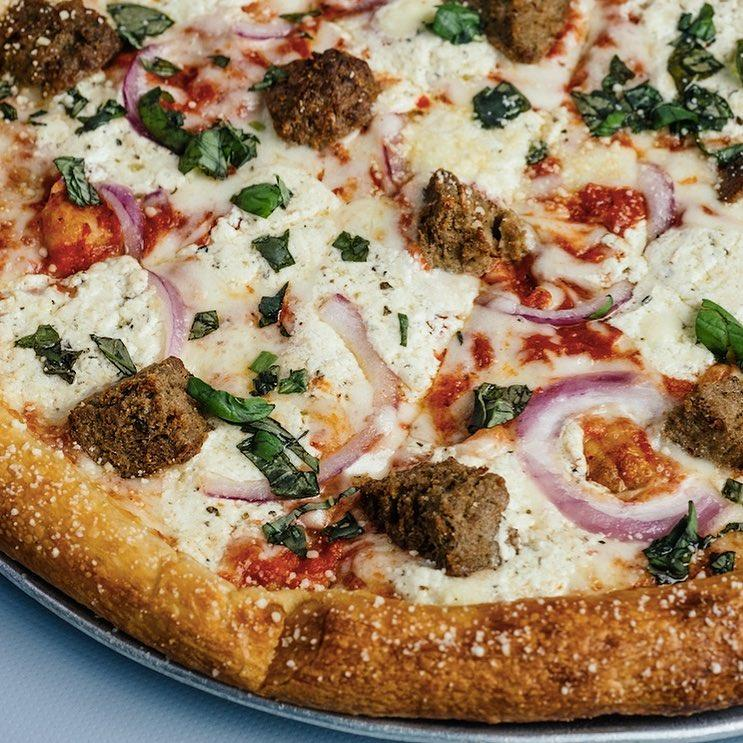Onion: (511, 373, 728, 545), (309, 283, 404, 489), (467, 277, 645, 327), (625, 146, 694, 245), (140, 260, 194, 365), (91, 173, 151, 264), (118, 39, 175, 124), (197, 464, 279, 510), (369, 135, 427, 200), (183, 19, 294, 47)
Pizza: (0, 0, 743, 716)
